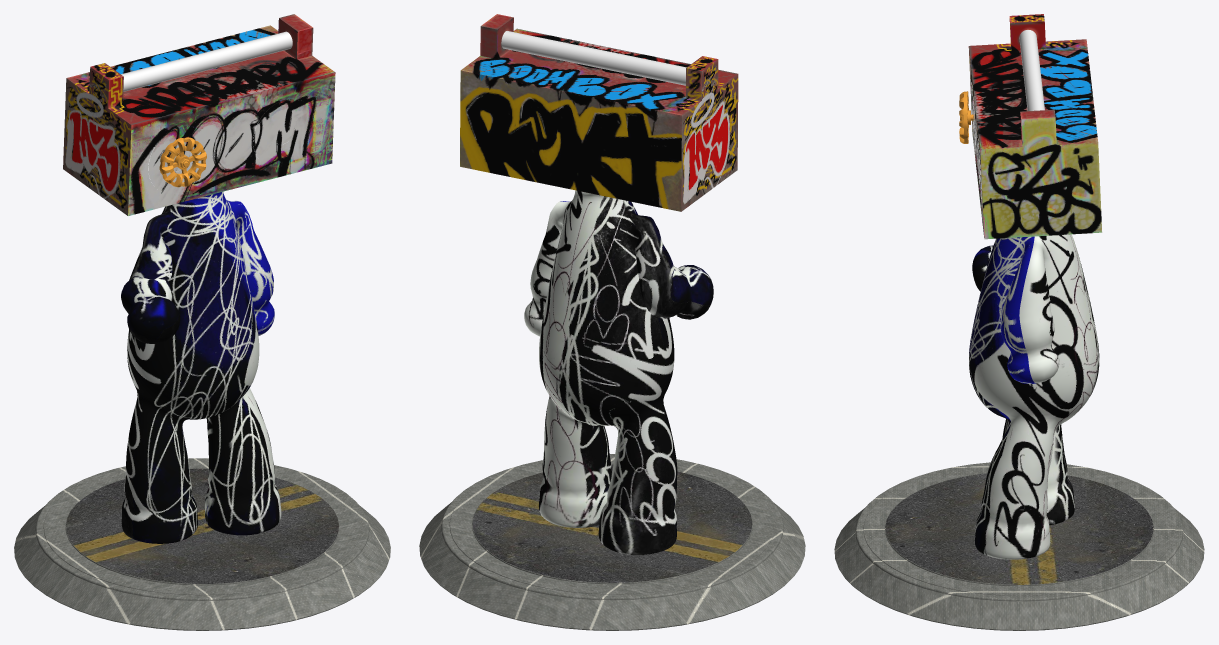
Rendered from 254_sanitized.glb.
The picture shows the model from 3 angles, left to right: view 1: azimuth 30°, elevation 25°; view 2: azimuth 150°, elevation 25°; view 3: azimuth 270°, elevation 25°; orthographic projection. The views are drawn at different scales.
Visible parts, largest first — view 1: BBody; view 2: BBody; view 3: BBody.
Boxes of the visible parts, bbox=[...] form: BBody: bbox=[14, 14, 390, 630]; BBody: bbox=[419, 14, 805, 630]; BBody: bbox=[834, 14, 1204, 630].
Size of the model in its own units: 1.45 by 2.12 by 1.45.
5 materials, 5 textured.
